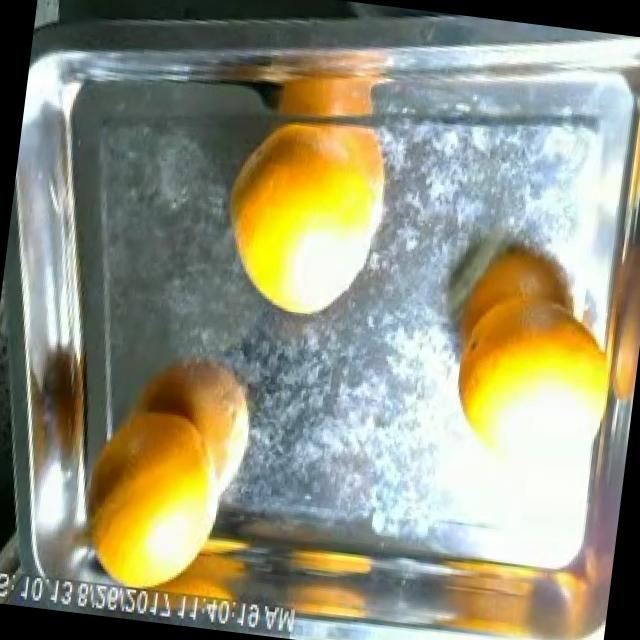Fruit: (58, 391, 245, 613)
